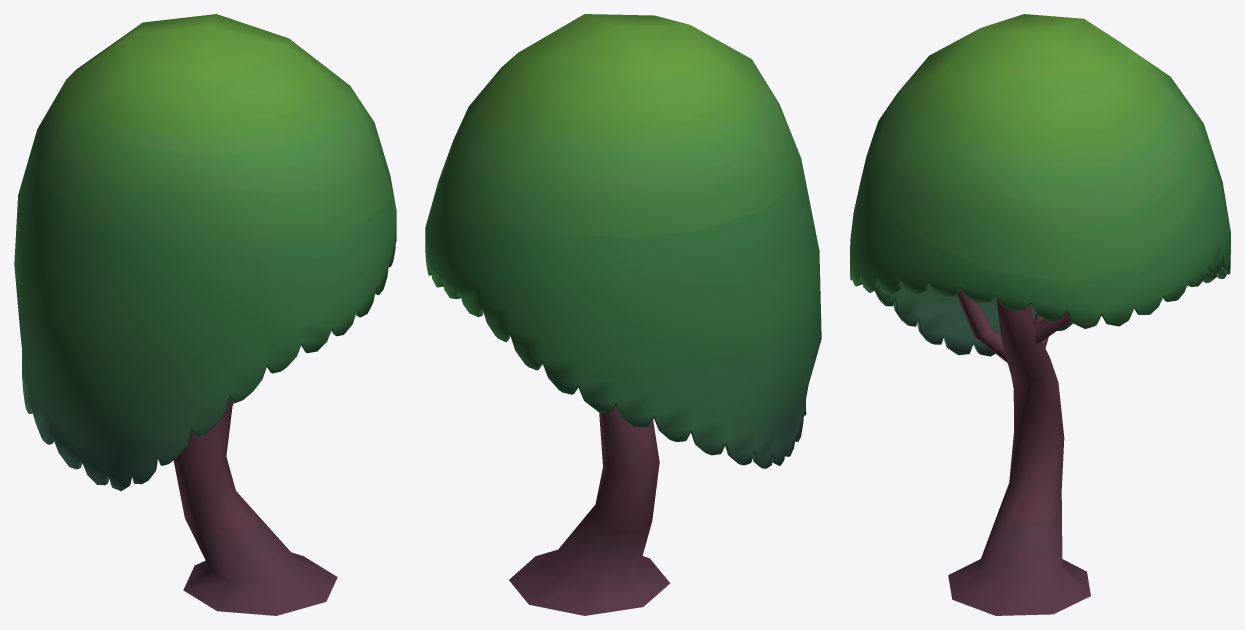
The model's file is Tree_20.fbx.
3 views of the same model, side by side, from view 1: azimuth 30°, elevation 25°; view 2: azimuth 150°, elevation 25°; view 3: azimuth 270°, elevation 25° (orthographic). The views are drawn at different scales.
Parts seen in each view (by area): view 1: Tree_20; view 2: Tree_20; view 3: Tree_20.
Part boxes in pixels (left/top/right/bottom): Tree_20: left=14, top=14, right=396, bottom=615; Tree_20: left=425, top=14, right=821, bottom=615; Tree_20: left=850, top=14, right=1230, bottom=615.
Size of the model in its own units: 223 by 358 by 232.
